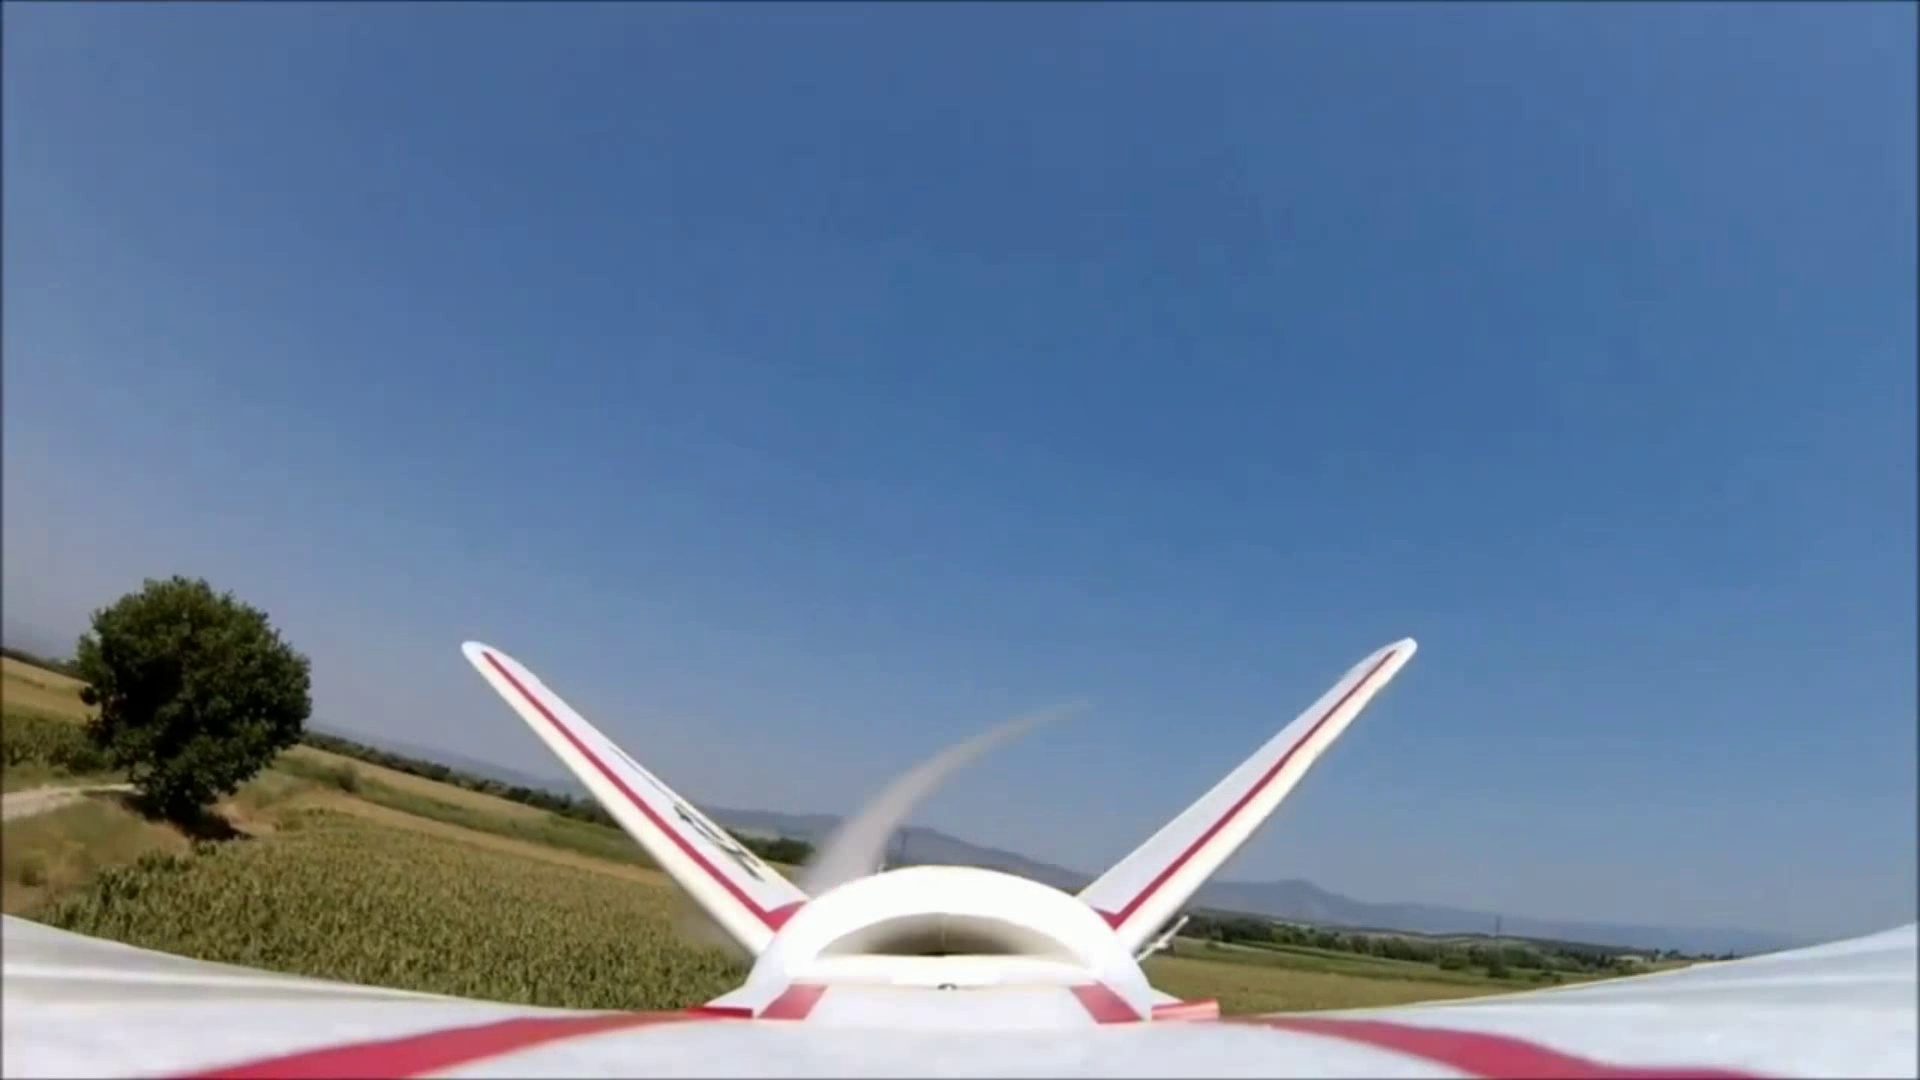airplane: (1, 633, 1416, 1048), (411, 636, 1418, 1035)
